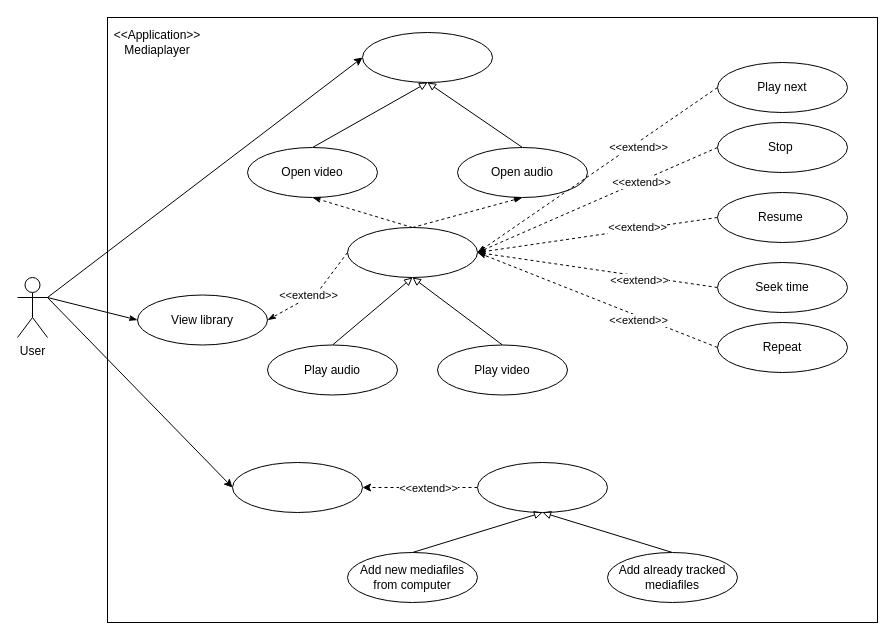
Some shapes in this 895 by 640 pixel diagram are drawn without their labels. The shapes that lost their labels are listed below. From the top down, each one's centre as x and y in pixels, then its label:
[427,57]: Open mediafile file on computer
[412,252]: Play mediafile
[297,487]: Create playlist
[542,487]: Add new mediafiles
